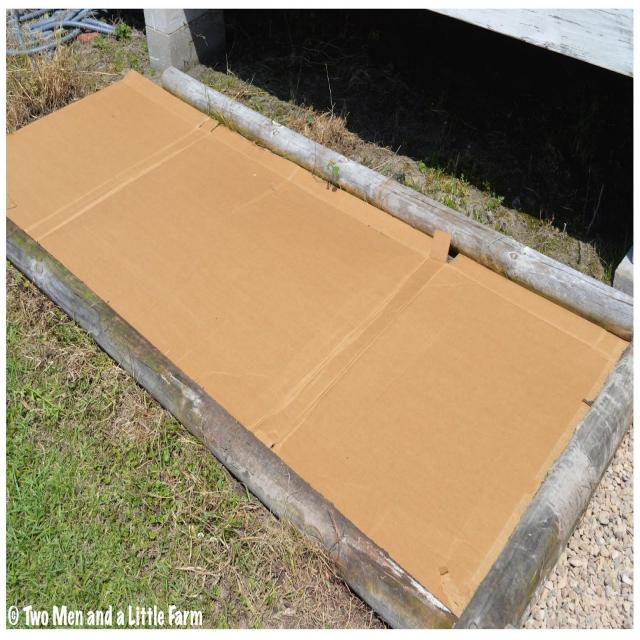cardboard: (6, 67, 632, 619)
